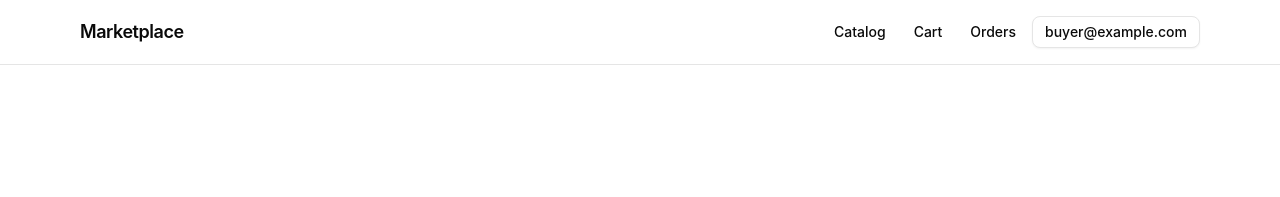
SiteHeader › shows a become-a-seller link for a buyer with no application
Click the button "buyer@example.com" at point(1116, 32), box x1=1032 y1=16 x2=1200 y2=48
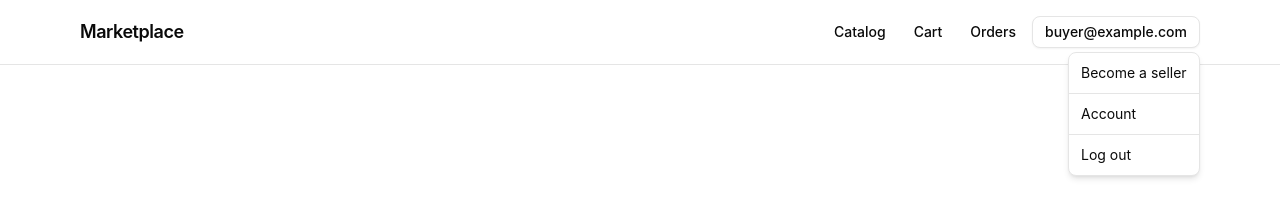
Expected: the menu item "Become a seller" is shown, x1=1081 y1=64 x2=1187 y2=81
